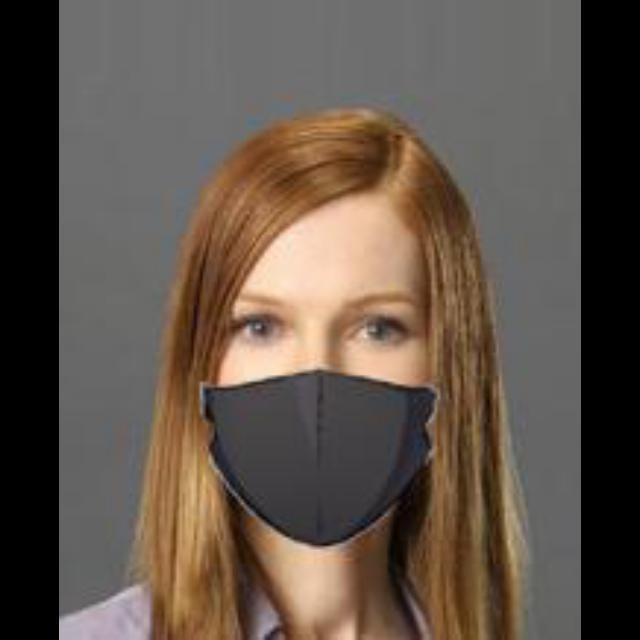suspicion: (187, 132, 498, 560)
